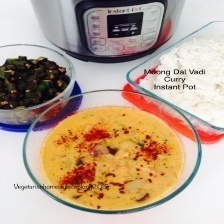rice: (138, 29, 224, 131)
